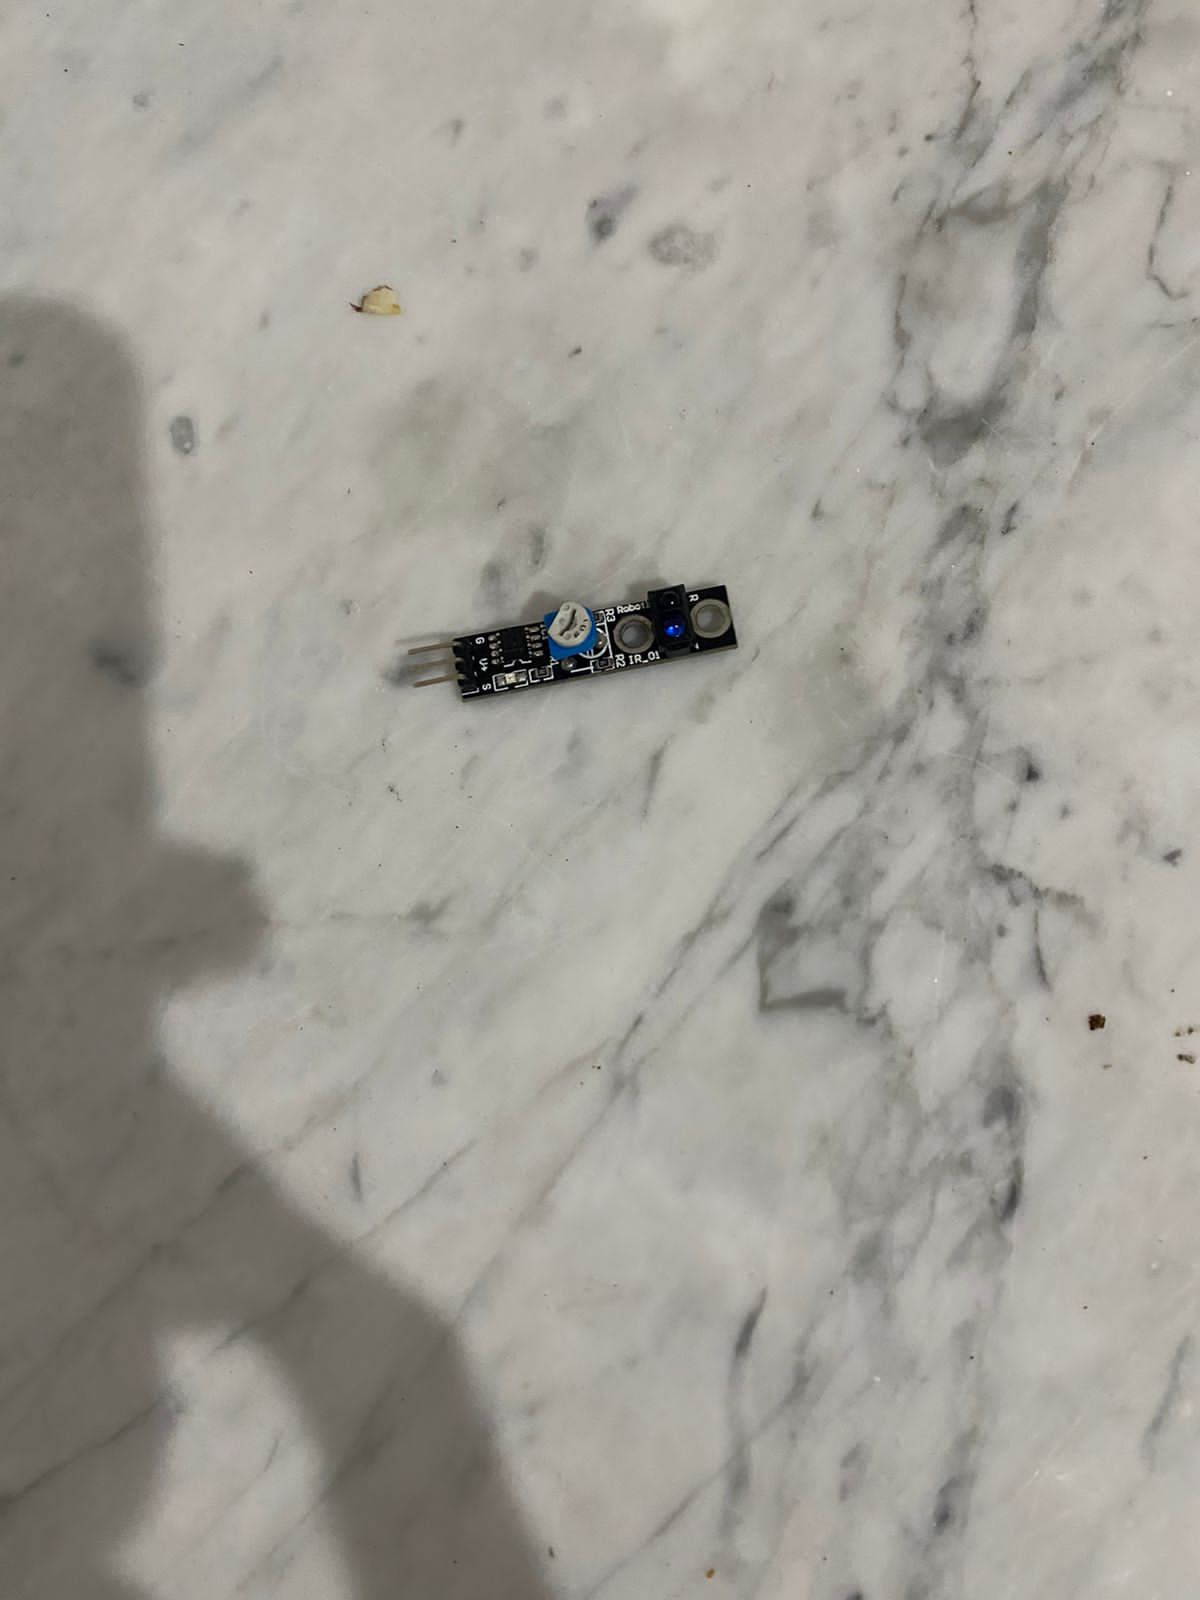ir-sensor: (387, 574, 745, 706)
